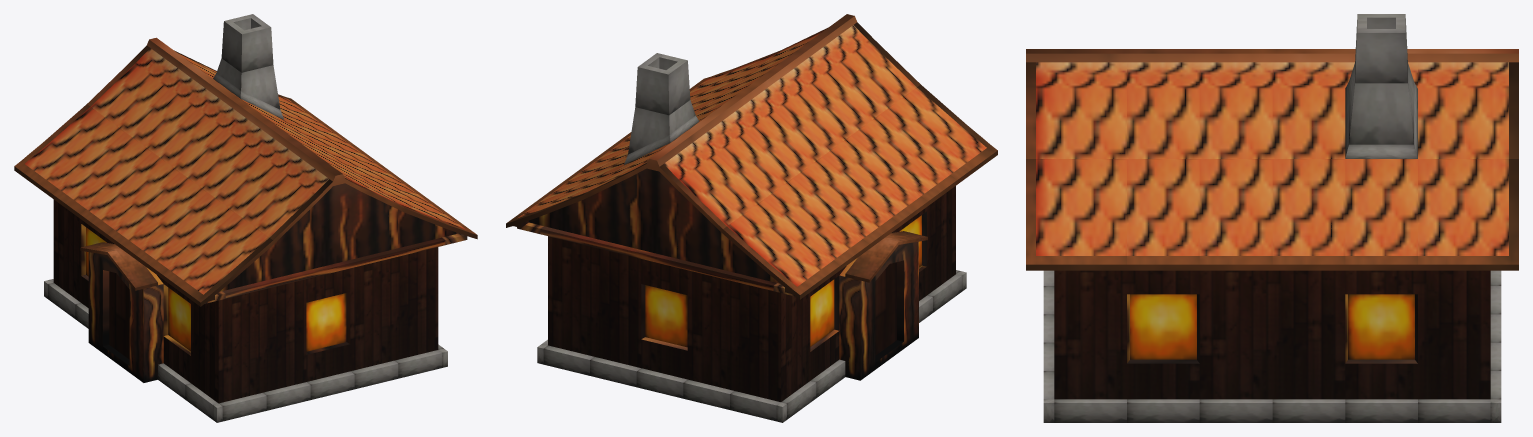
File: town_house.glb
3 renders of one model, left to right at view 1: azimuth 30°, elevation 25°; view 2: azimuth 150°, elevation 25°; view 3: azimuth 270°, elevation 25°, orthographic. The views are drawn at different scales.
Parts seen in each view (by area): view 1: Box001; view 2: Box001; view 3: Box001.
Boxes of the visible parts, <box> form: Box001: <box>14,14,477,422</box>; Box001: <box>506,14,997,422</box>; Box001: <box>1026,14,1518,422</box>.
Bounding box in the file's own units: 8.76 × 8.06 × 10.21.
1 material, 1 textured.
